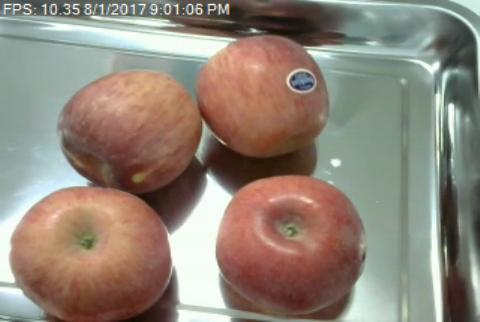apple: (10, 185, 172, 320), (215, 174, 368, 312), (54, 69, 202, 192), (198, 33, 329, 156)
